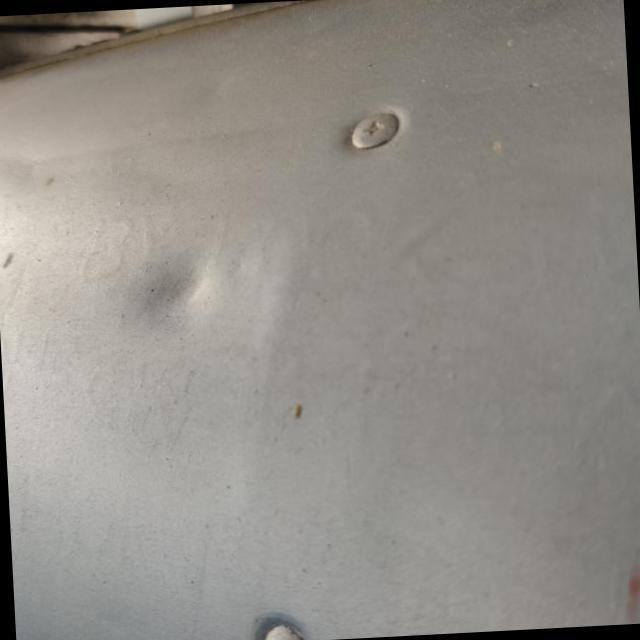Dent: (110, 232, 242, 360)
